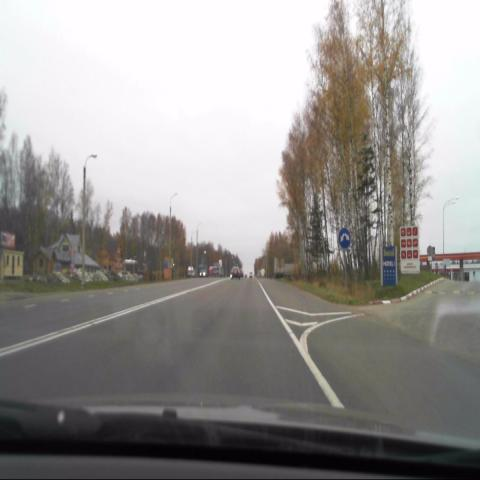4_2_3: (338, 227, 350, 248)
